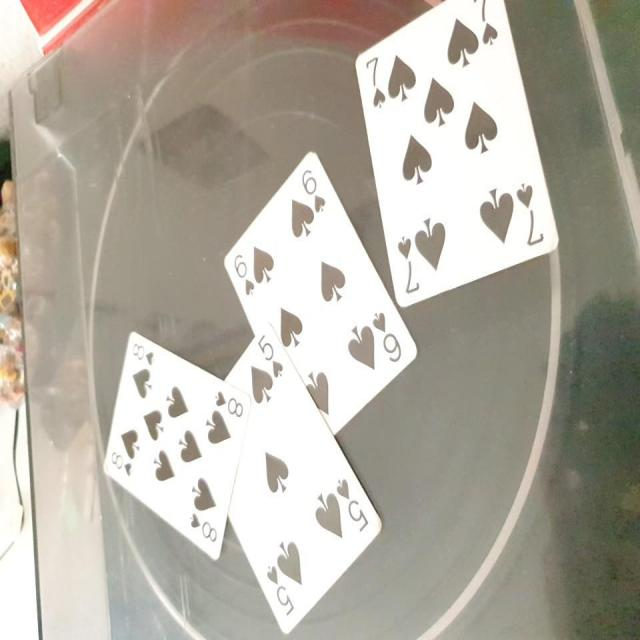5 Spades: (208, 327, 376, 640)
6 Spades: (199, 151, 419, 423)
7 Spades: (348, 2, 567, 309)
8 Spades: (90, 320, 248, 568)
